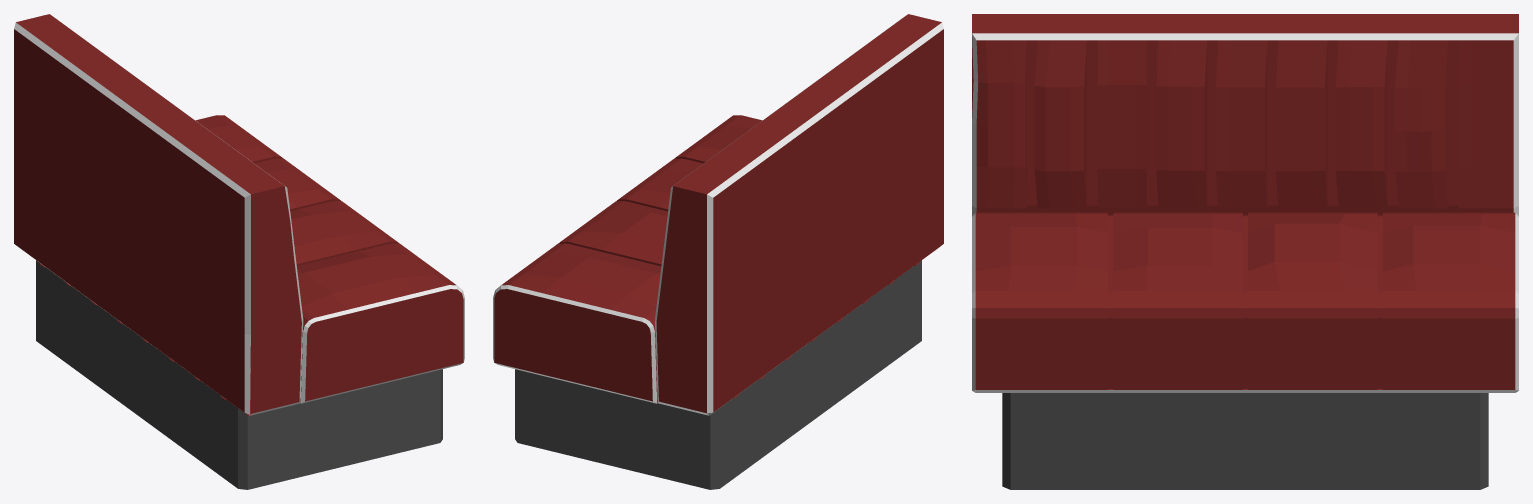
The model's file is Dinner_Chair.fbx.
3 renders of one model, left to right at view 1: azimuth 30°, elevation 25°; view 2: azimuth 150°, elevation 25°; view 3: azimuth 270°, elevation 25°, orthographic. The views are drawn at different scales.
Parts seen in each view (by area): view 1: Cube.004; view 2: Cube.004; view 3: Cube.004.
Boxes of the visible parts, <box> form: Cube.004: <box>14,14,464,489</box>; Cube.004: <box>493,14,943,489</box>; Cube.004: <box>972,14,1518,489</box>.
Size of the model in its own units: 98.7 by 132 by 183.
